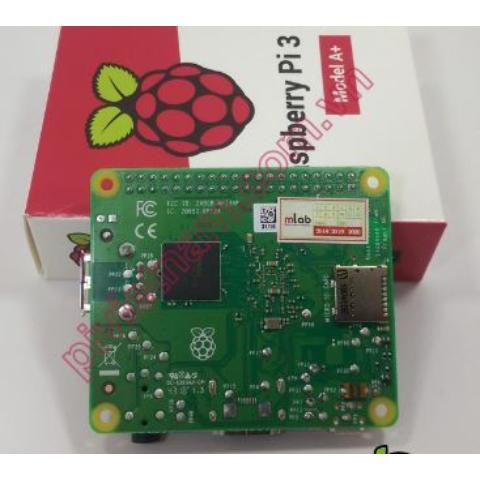Raspberry-Pi-3-Model-A-: (77, 160, 405, 450)
